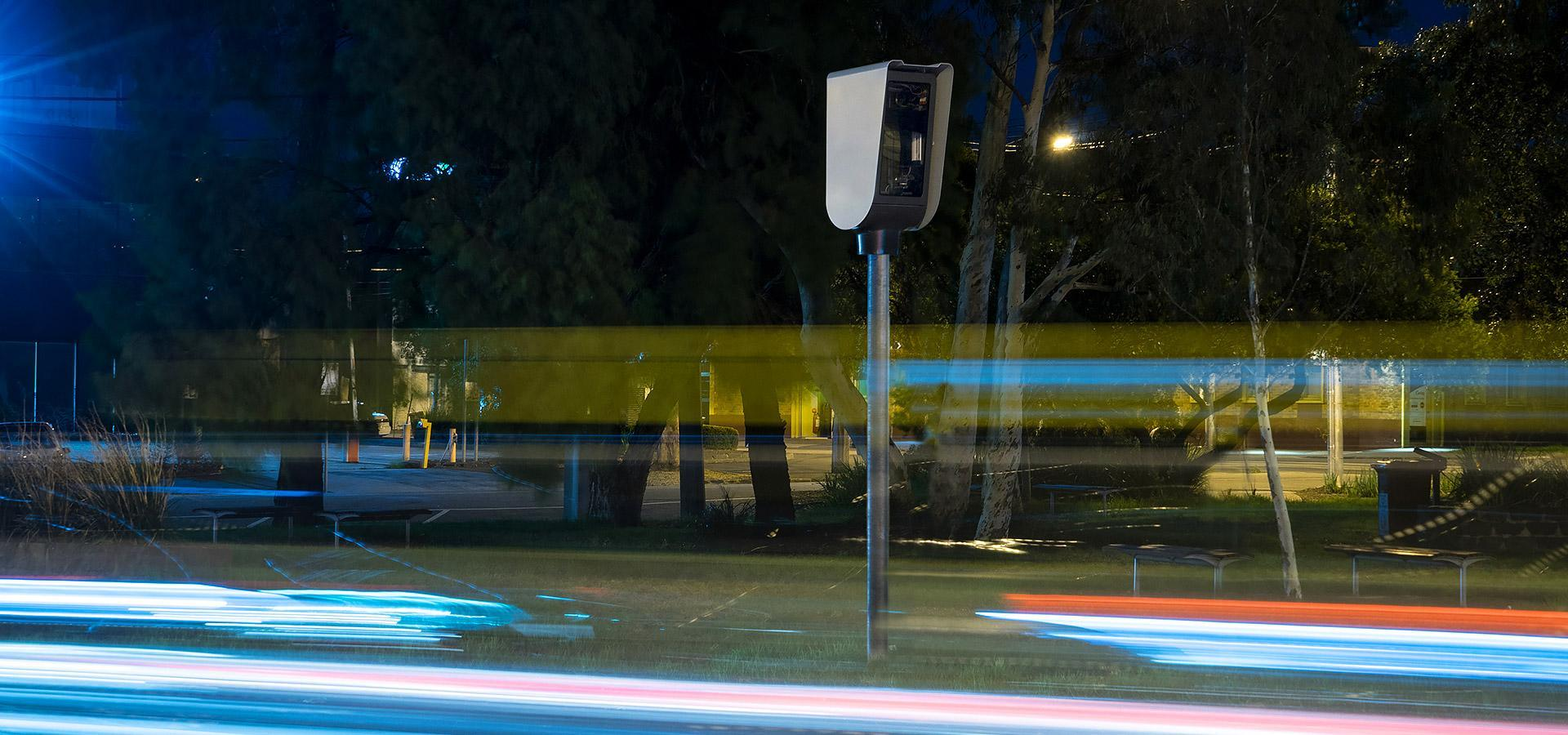Monitor: (823, 56, 955, 243)
